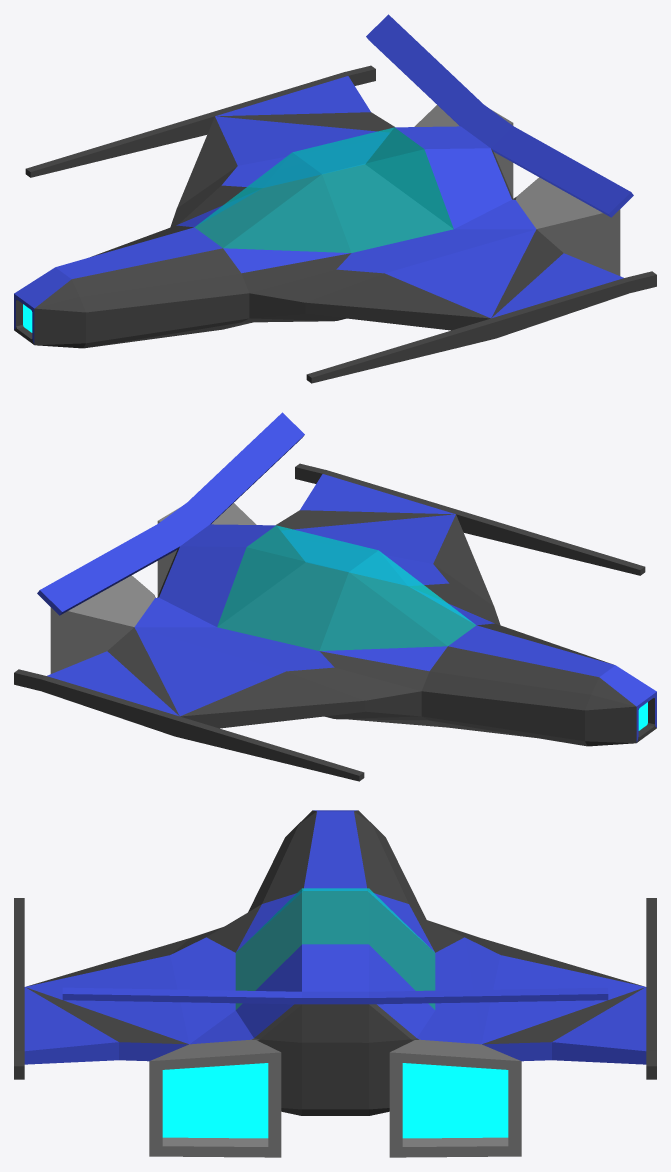
File: ship9.fbx
3 views of the same model, one above another, from view 1: azimuth 30°, elevation 25°; view 2: azimuth 150°, elevation 25°; view 3: azimuth 270°, elevation 25° (orthographic). The views are drawn at different scales.
Parts seen in each view (by area): view 1: Ship; view 2: Ship; view 3: Ship.
Part boxes in pixels (x1=…): Ship: x1=14, y1=14, x2=656, y2=383; Ship: x1=14, y1=412, x2=656, y2=781; Ship: x1=14, y1=810, x2=656, y2=1157.
Size of the model in its own units: 557 by 148 by 537.
